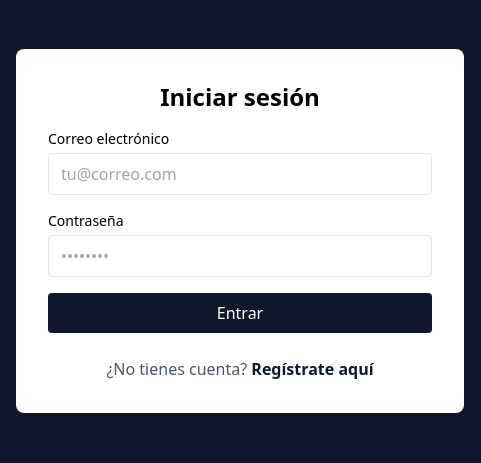
Scenario: Login Component › displays error message for invalid credentials
The width and height of the screenshot is (481, 463).
Type "wrong@example.com" into the field with placeholder "tu@correo.com" at (240, 174), box [48, 153, 432, 195]
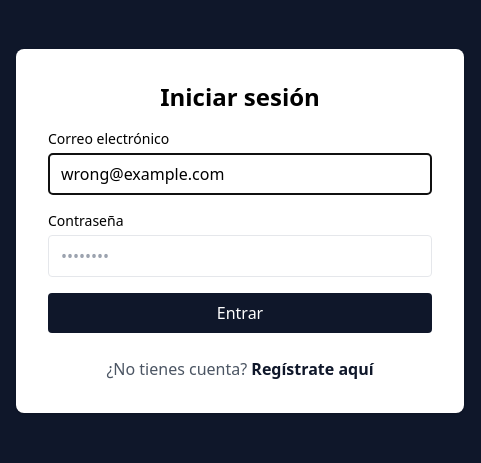
Type "wrongpassword" into the password field with placeholder "••••••••" at (240, 256), box [48, 235, 432, 277]
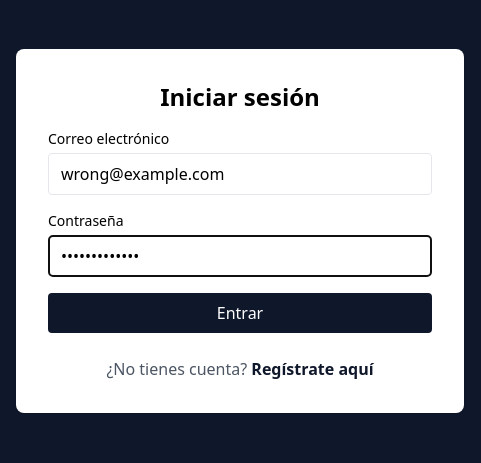
Click the button "Entrar" at (240, 313), box [48, 293, 432, 333]
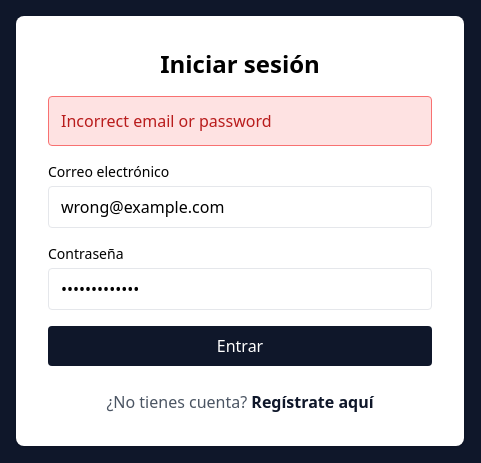
Check: the text "Incorrect email or password" is shown, box [48, 96, 432, 146]
